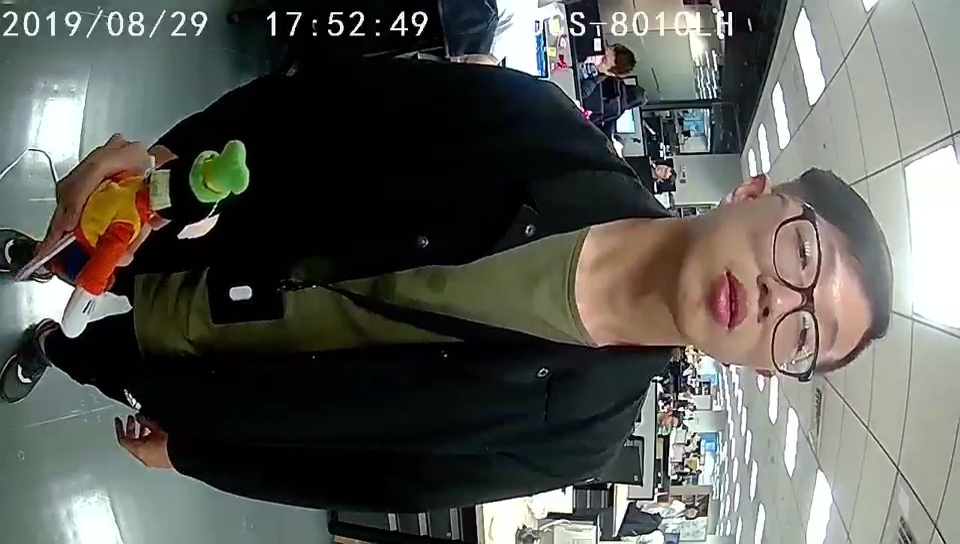goofy: (57, 139, 252, 339)
